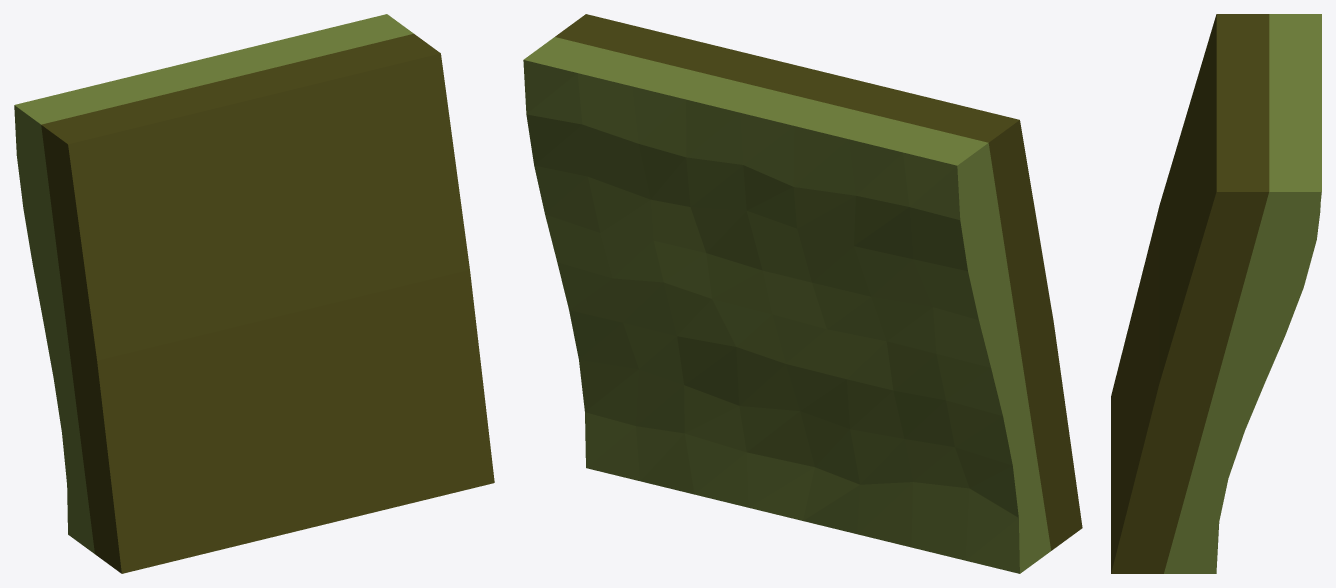
File: Slope_Up.fbx
The picture shows the model from 3 angles, left to right: view 1: azimuth 30°, elevation 25°; view 2: azimuth 150°, elevation 25°; view 3: azimuth 270°, elevation 25°; orthographic projection. The views are drawn at different scales.
Visible parts, largest first — view 1: Slope_Up; view 2: Slope_Up; view 3: Slope_Up.
Boxes of the visible parts, left/top/right/bottom form: Slope_Up: left=14, top=14, right=494, bottom=573; Slope_Up: left=523, top=14, right=1082, bottom=573; Slope_Up: left=1111, top=14, right=1321, bottom=573.
Size of the model in its own units: 400 by 400 by 200.
